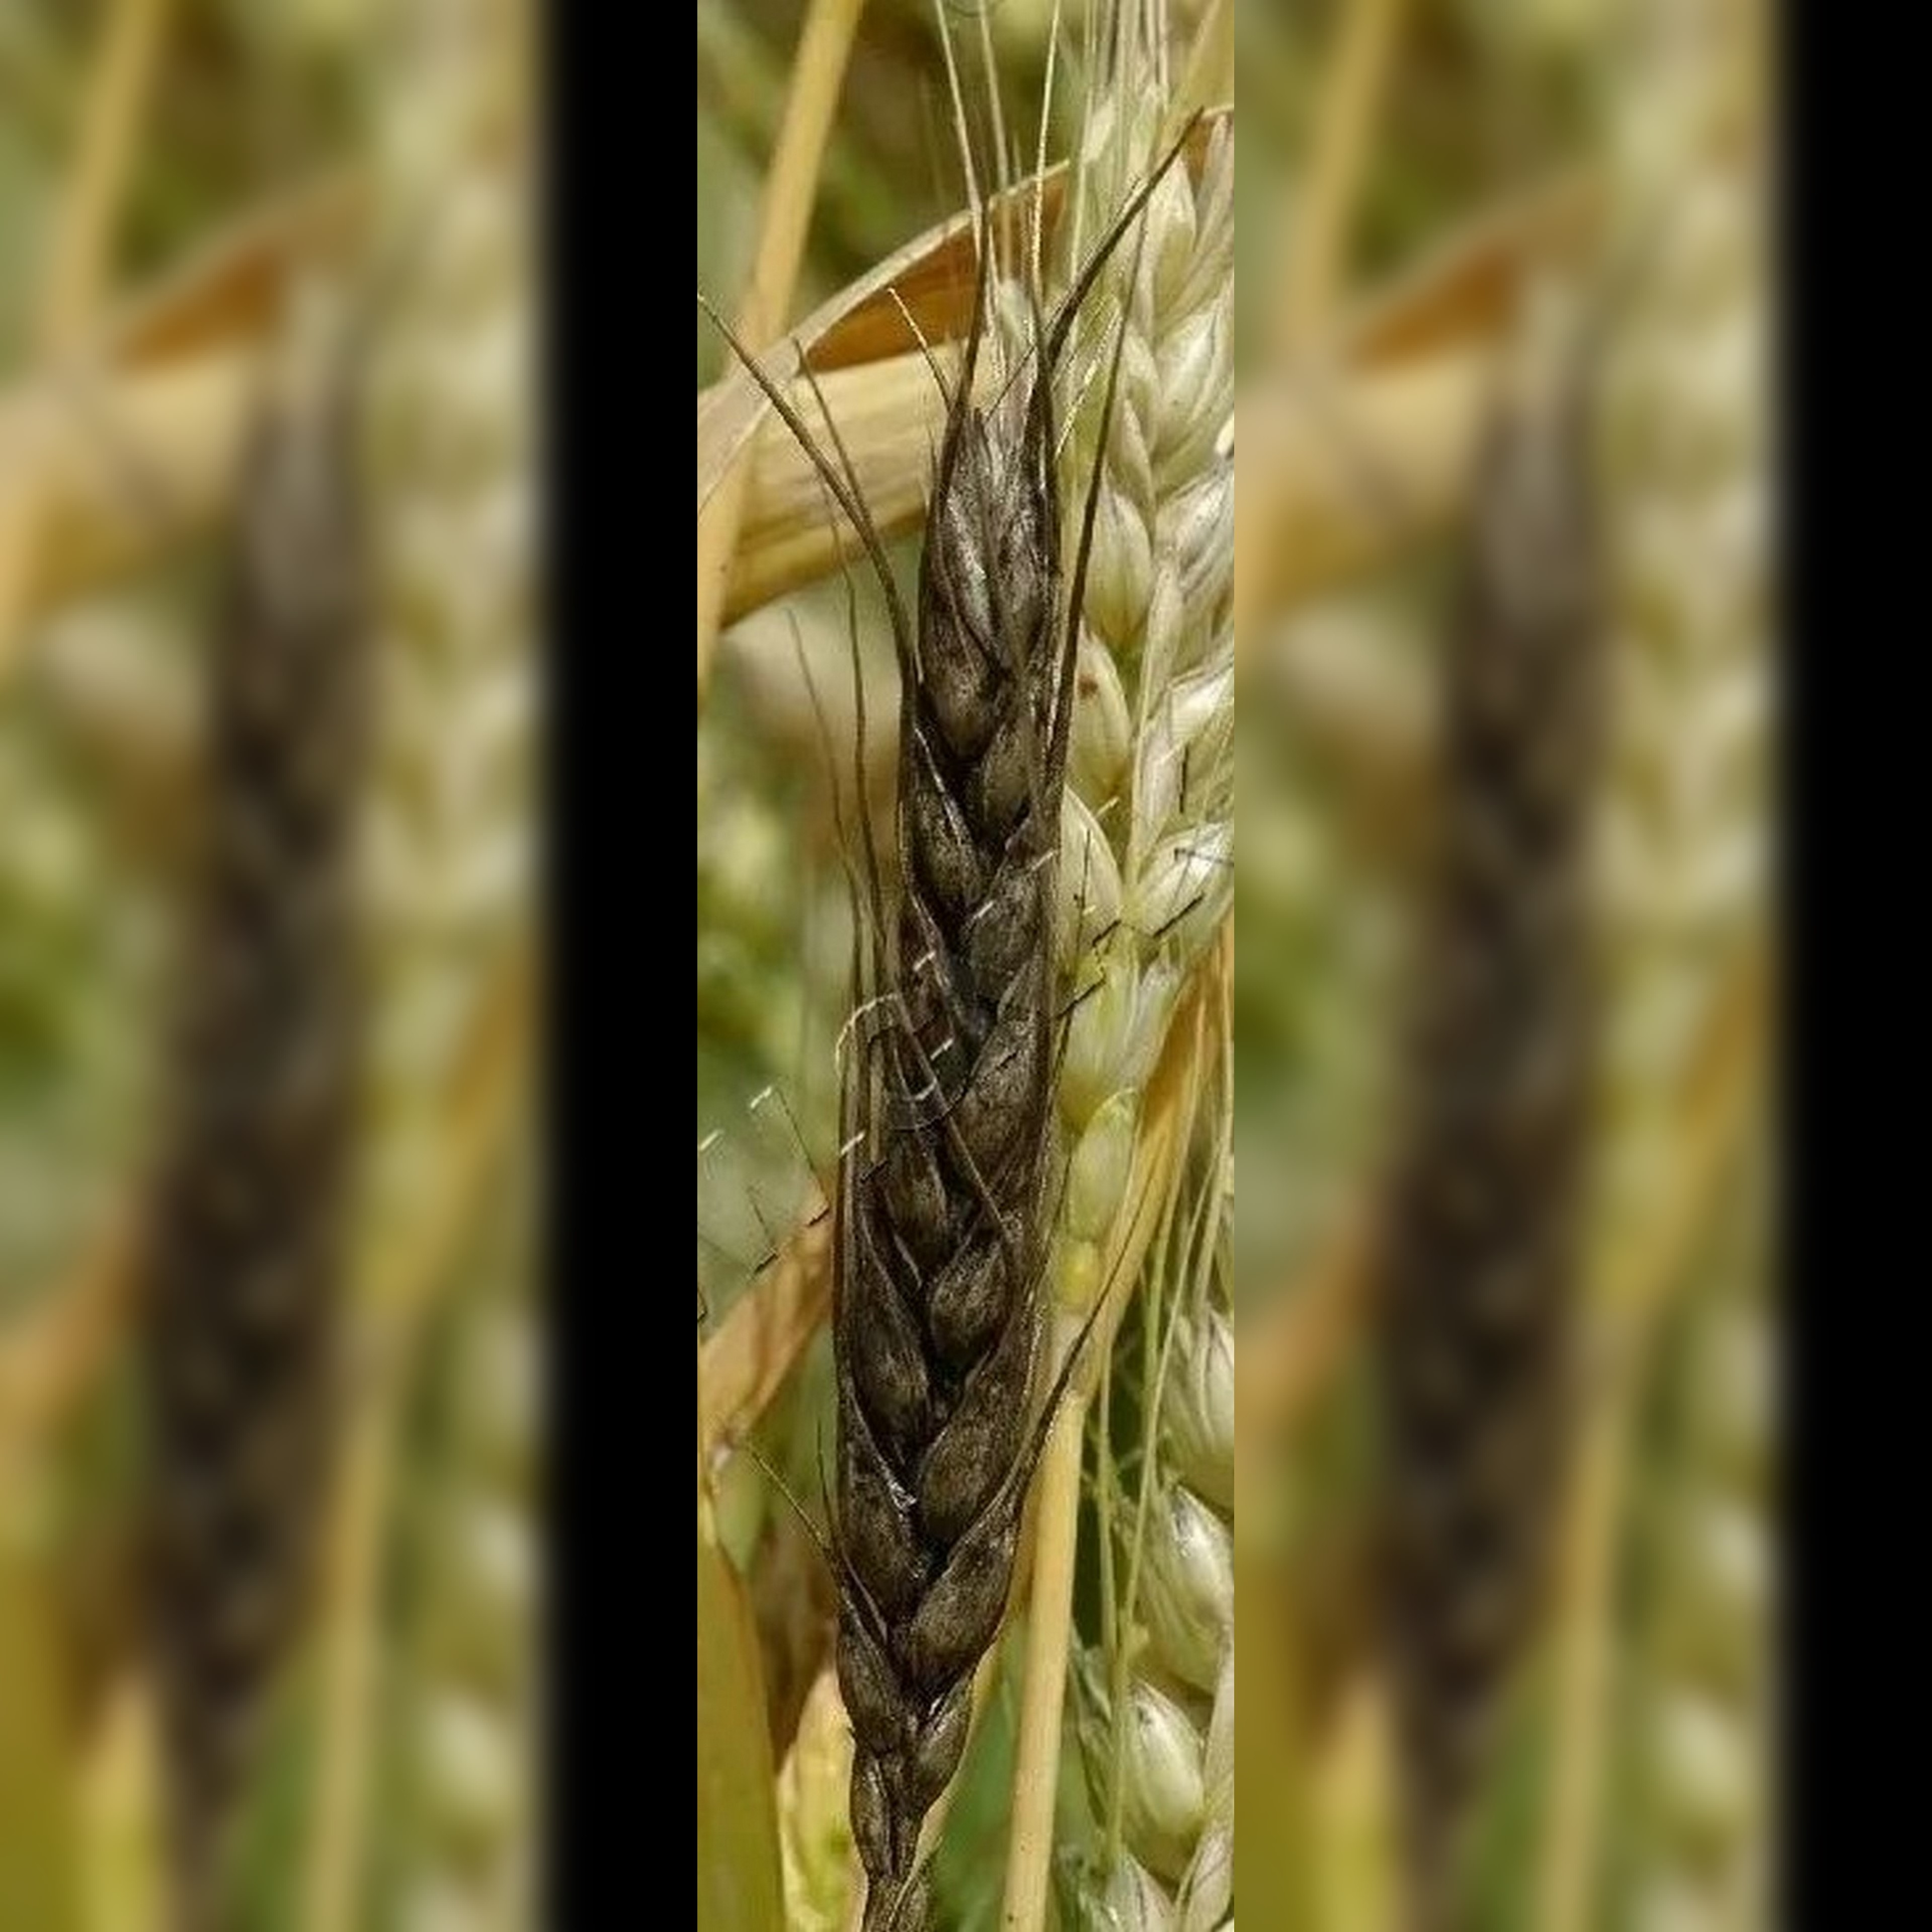Wheat Loose Smut: (778, 356, 1109, 1780)
